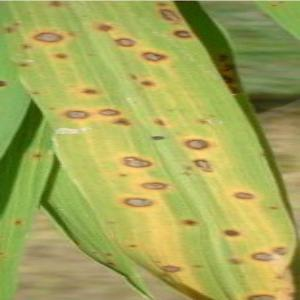Brown_Spot: (176, 134, 222, 156), (188, 152, 220, 179), (116, 193, 161, 212), (136, 46, 170, 69), (115, 152, 156, 171), (227, 185, 262, 207), (110, 31, 142, 53), (153, 6, 185, 27), (166, 24, 197, 44), (247, 248, 279, 267), (29, 30, 66, 46), (154, 260, 186, 278), (61, 106, 92, 124), (174, 214, 204, 232), (137, 178, 172, 192), (221, 253, 248, 271), (108, 115, 135, 132), (91, 19, 116, 36), (220, 224, 243, 242), (269, 242, 293, 259), (95, 105, 121, 119), (76, 84, 101, 98), (138, 76, 158, 92), (149, 114, 169, 130), (51, 49, 72, 64), (176, 168, 197, 183), (147, 131, 169, 145), (242, 291, 280, 299), (188, 260, 210, 273), (27, 149, 46, 164), (101, 216, 121, 230), (9, 215, 26, 230), (123, 240, 141, 253), (42, 1, 67, 10), (227, 84, 243, 98), (265, 201, 282, 214), (215, 49, 230, 63), (217, 74, 238, 84), (180, 163, 199, 174), (1, 69, 9, 95), (44, 103, 61, 115), (15, 60, 32, 72), (116, 168, 131, 181), (105, 258, 118, 272), (272, 272, 290, 282), (150, 1, 172, 9), (2, 24, 18, 35), (221, 62, 235, 74), (19, 42, 34, 52), (149, 257, 165, 266), (101, 251, 117, 260), (66, 28, 78, 40), (87, 248, 101, 258), (268, 1, 282, 10), (29, 89, 42, 98), (1, 245, 6, 264), (273, 1, 289, 6), (12, 21, 21, 28)
